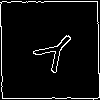Y: (25, 25, 82, 82)
